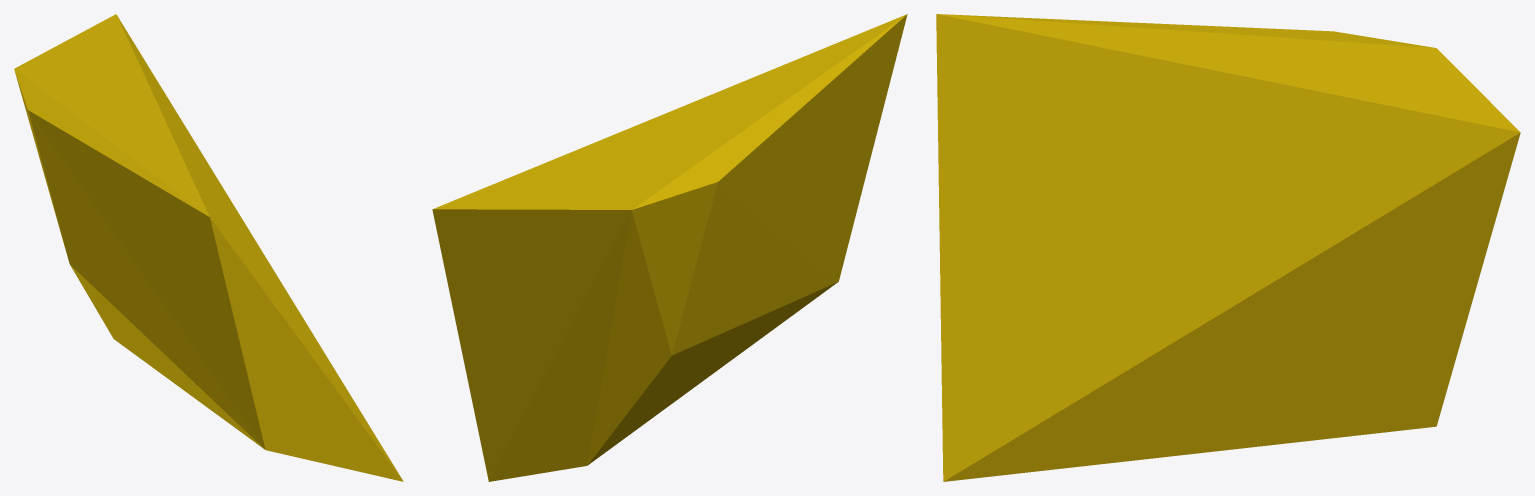
File: shoulder-roll-housing_convex_piece_002.obj
3 renders of one model, left to right at view 1: azimuth 30°, elevation 25°; view 2: azimuth 150°, elevation 25°; view 3: azimuth 270°, elevation 25°, orthographic. The views are drawn at different scales.
Size of the model in its own units: 0.0158 by 0.0232 by 0.0344.
